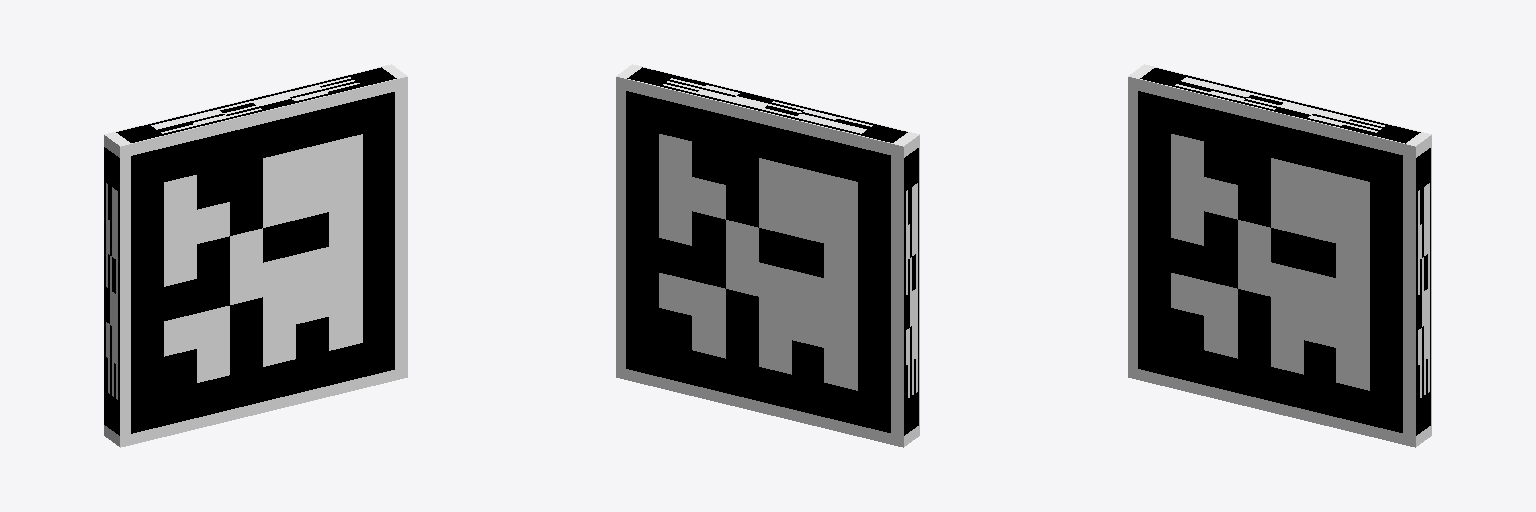
3 renders of one model, left to right at view 1: azimuth 30°, elevation 25°; view 2: azimuth 150°, elevation 25°; view 3: azimuth 330°, elevation 25°, orthographic.
Parts seen in each view (by area): view 1: Cube; view 2: Cube; view 3: Cube.
Boxes of the visible parts, <box> form: Cube: <box>104,64,407,447</box>; Cube: <box>616,64,919,447</box>; Cube: <box>1128,64,1431,447</box>.
Size of the model in its own units: 2 by 2 by 0.2.
Materials: 1 (1 with a texture image).